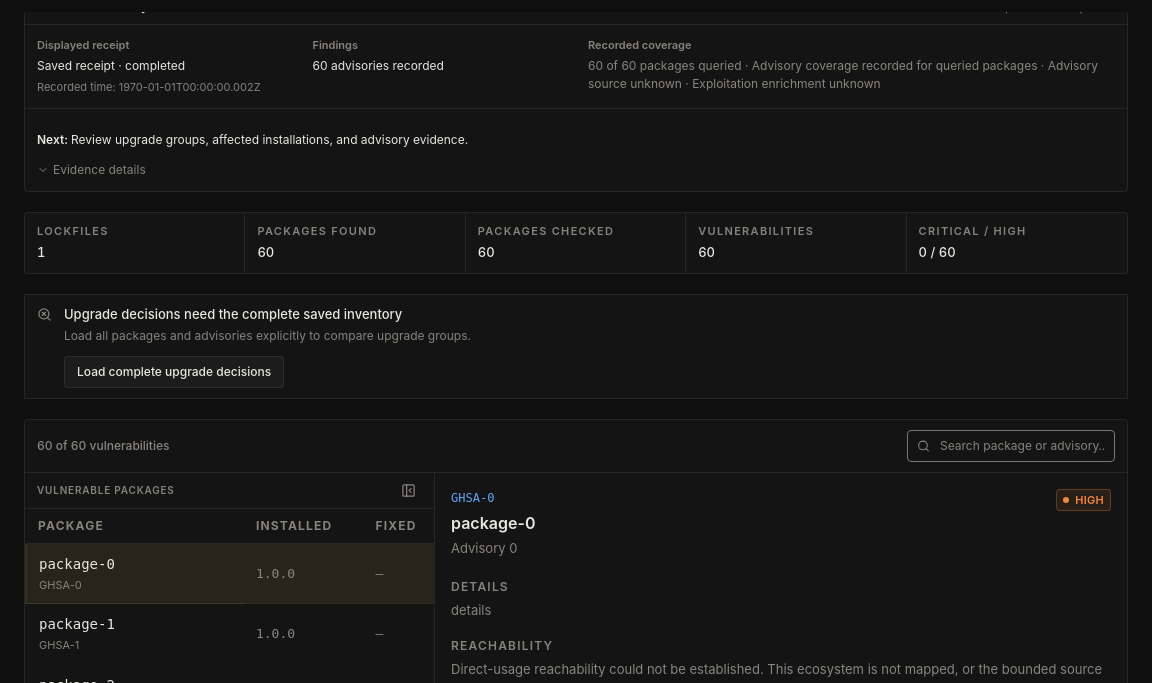
an explicitly loaded upgrade group opens its exact off-page advisory detail
(page scrolled)
Click the button "Load complete upgrade decisions".
click(174, 372)  # box [64, 356, 284, 388]
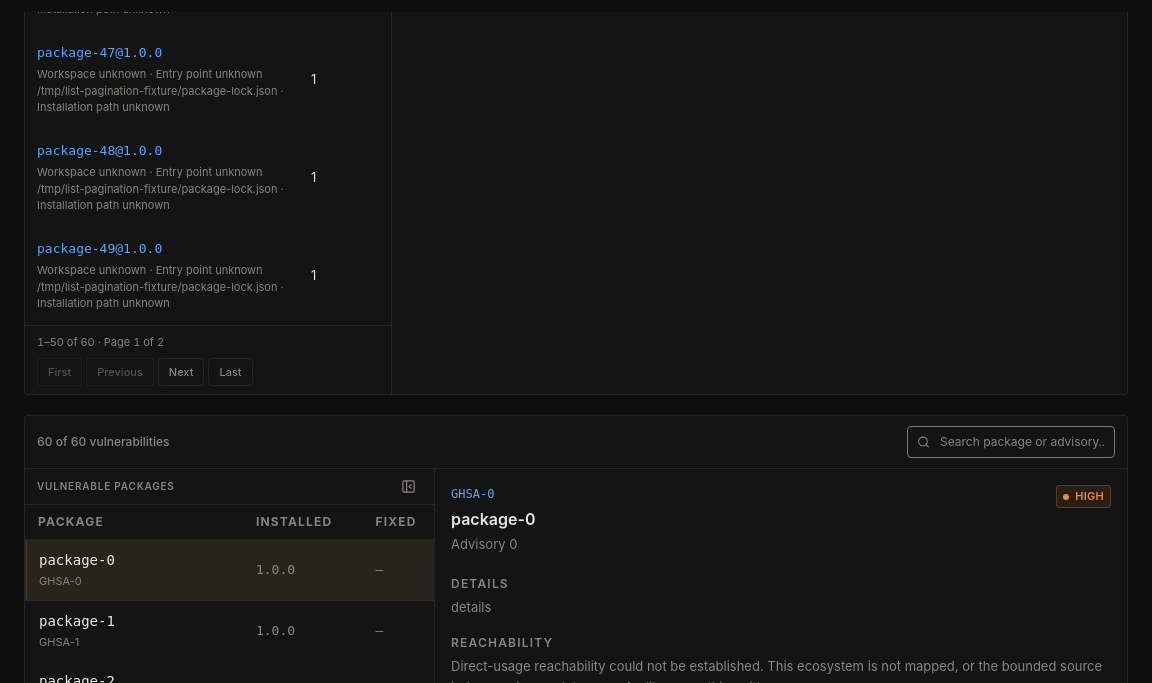
Click the button named "Last page of upgrade groups".
click(231, 372)  # box [208, 358, 253, 386]
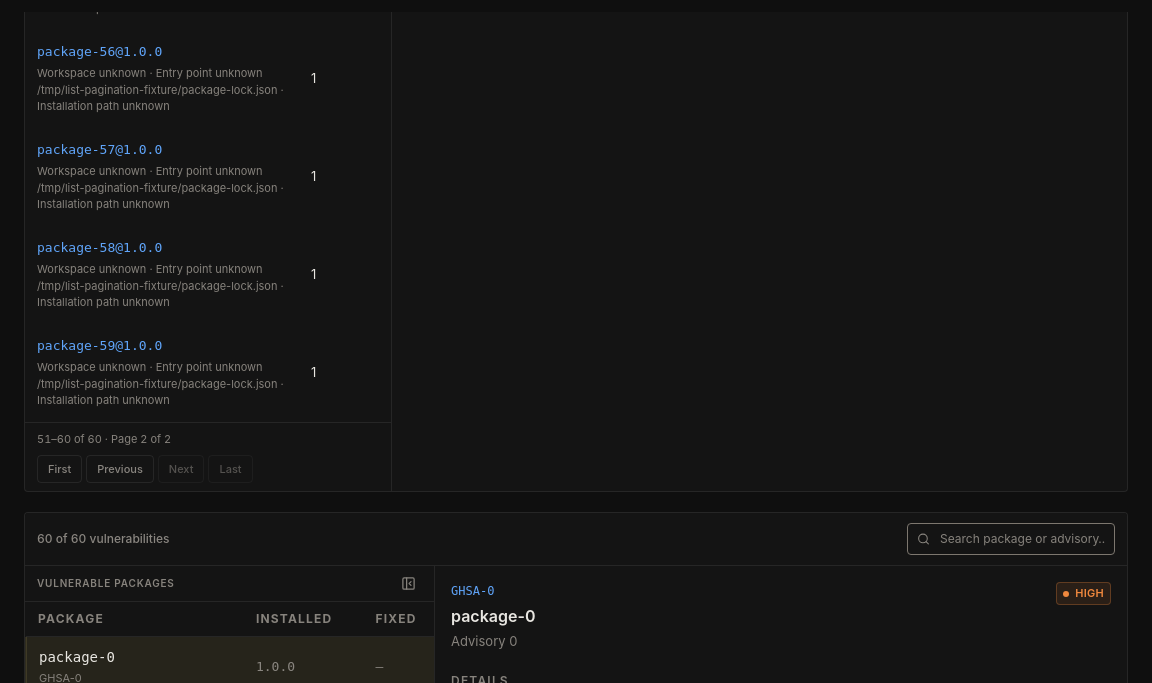
Click the button "package-59@1.0.0".
click(162, 372)  # box [37, 336, 287, 409]
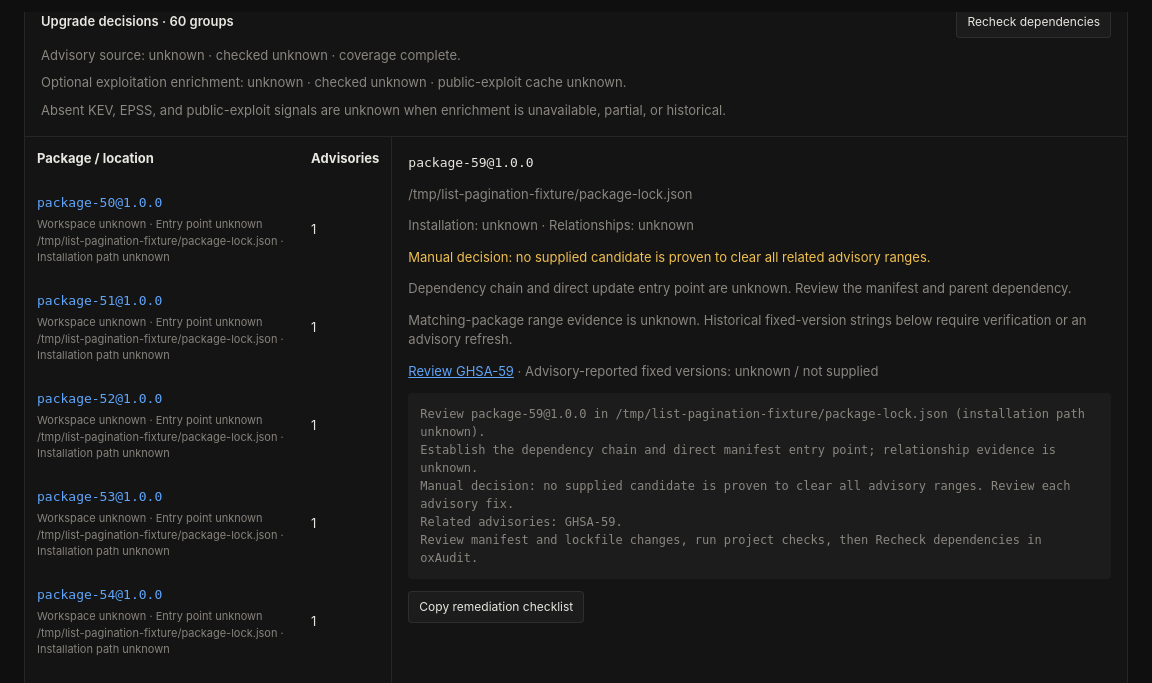
Click the button "Review GHSA-59".
click(461, 372)  # box [408, 362, 514, 381]
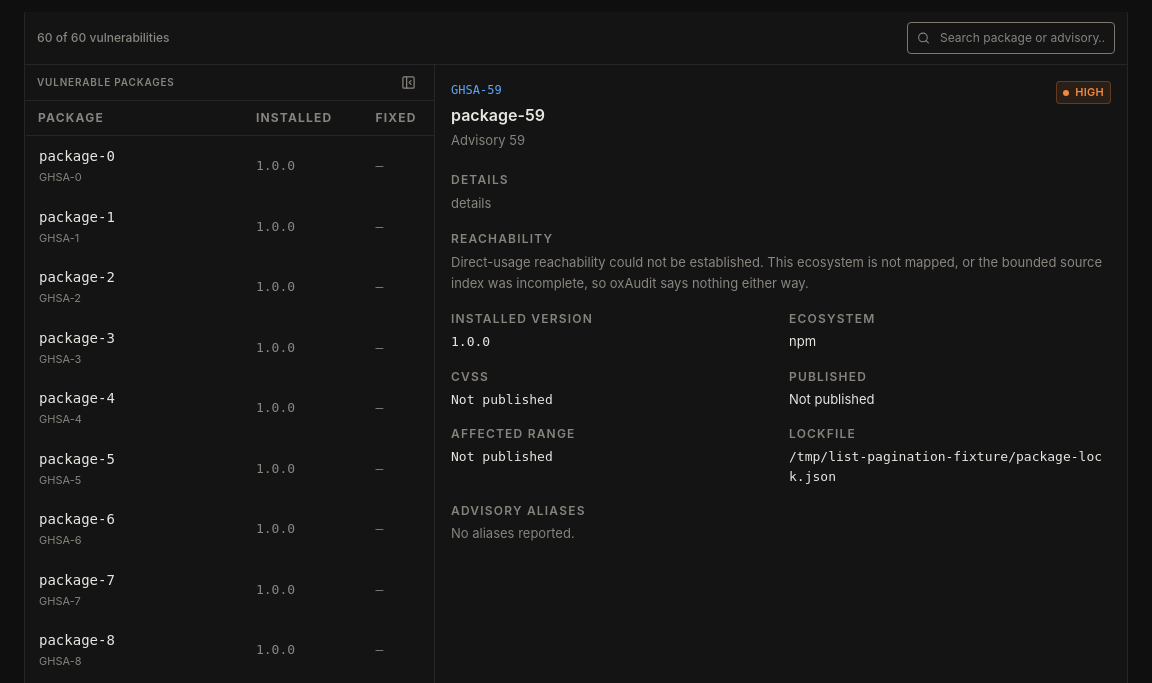
Check: the text "Advisory 0" is not shown
Check: the text "Advisory 59" is shown, box [451, 132, 525, 148]
